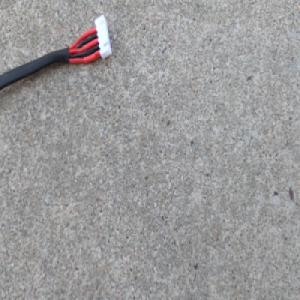Wire: (0, 13, 113, 98)
